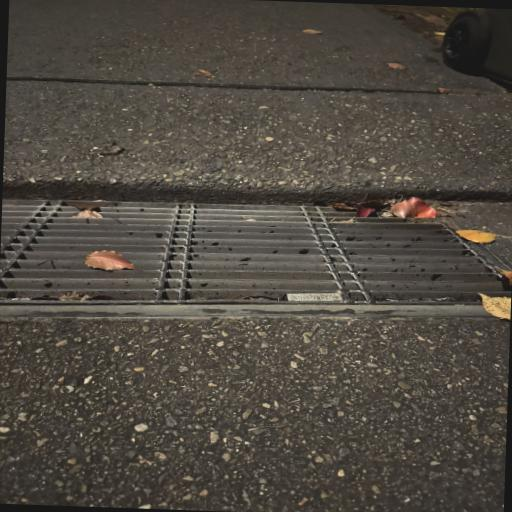gutter: (0, 200, 509, 309)
